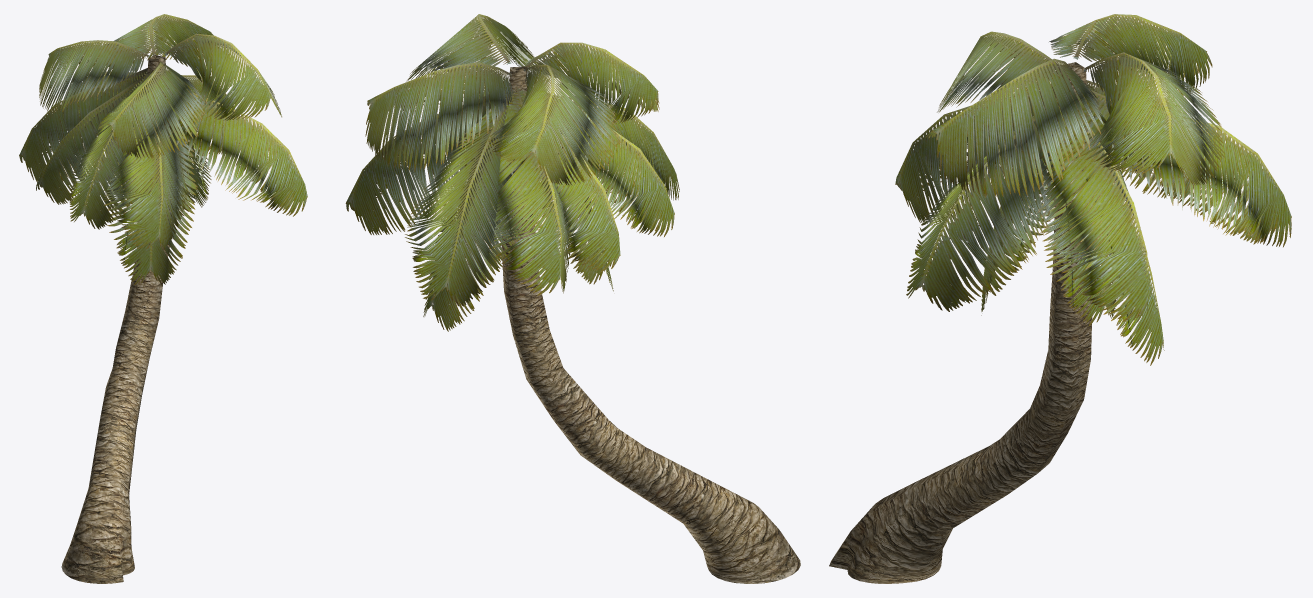
Rendered from Type_7_Tree_7.fbx.
3 views of the same model, side by side, from view 1: azimuth 30°, elevation 25°; view 2: azimuth 150°, elevation 25°; view 3: azimuth 270°, elevation 25° (orthographic). The views are drawn at different scales.
Visible parts, largest first — view 1: Leaf, Trunk; view 2: Leaf, Trunk; view 3: Leaf, Trunk.
Boxes of the visible parts, x1,y1,x2,y2 form: Leaf: (19,14,307,285); Trunk: (61,54,170,583); Leaf: (345,14,679,331); Trunk: (501,66,800,583); Leaf: (895,14,1291,365); Trunk: (829,62,1092,583).
Bounding box in the file's own units: 840 × 1293 × 902.
